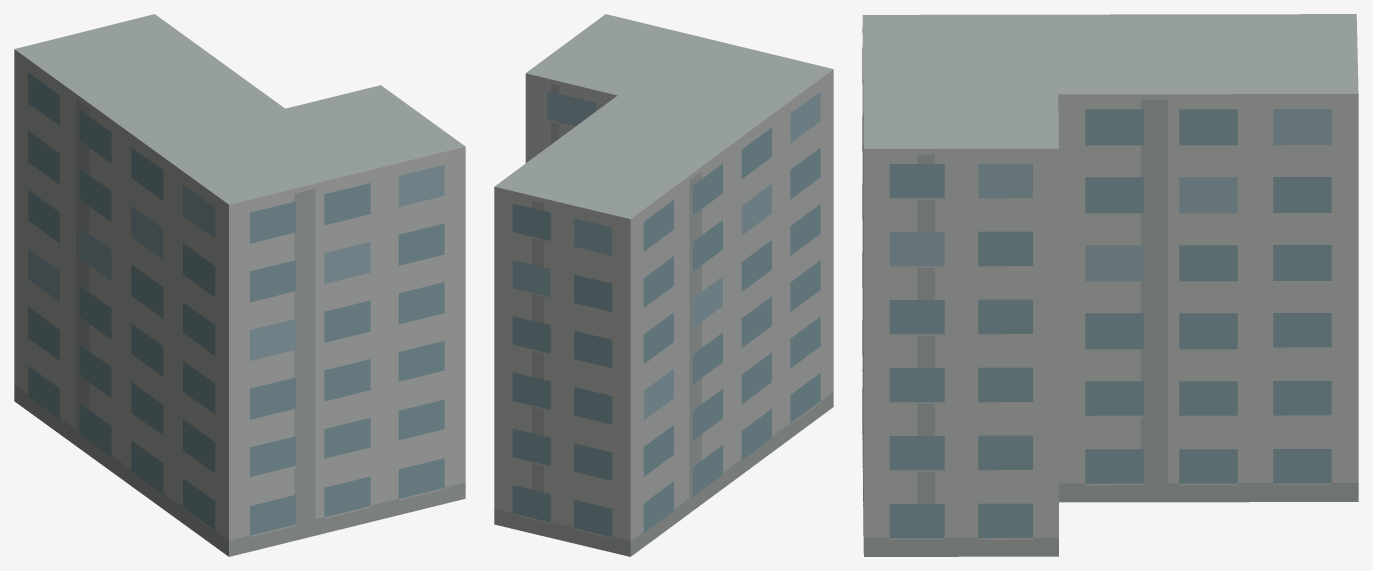
The model's file is survey-upis-33008298.glb.
The picture shows the model from 3 angles, left to right: view 1: azimuth 30°, elevation 25°; view 2: azimuth 150°, elevation 25°; view 3: azimuth 270°, elevation 25°; orthographic projection. The views are drawn at different scales.
Visible parts, largest first — view 1: survey-upis-33008298.tmp; view 2: survey-upis-33008298.tmp; view 3: survey-upis-33008298.tmp.
Part boxes in pixels (x1,y1,x2,y2): survey-upis-33008298.tmp: (14, 14, 465, 556); survey-upis-33008298.tmp: (494, 14, 833, 556); survey-upis-33008298.tmp: (862, 14, 1358, 556).
Size of the model in its own units: 12.28 by 17.3 by 19.08.
